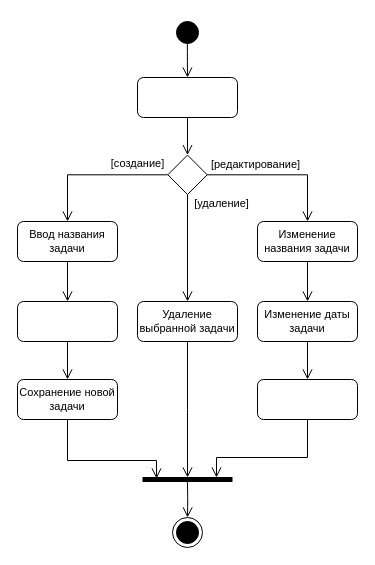
This 375x565 diagram has some shape labels left out. Each missing label, with the centre of its shape:
"Ввод даты задачи" goes at pixel 67 321.
"Изменение статуса задачи" goes at pixel 307 399.
"Управление задачами" goes at pixel 187 97.
